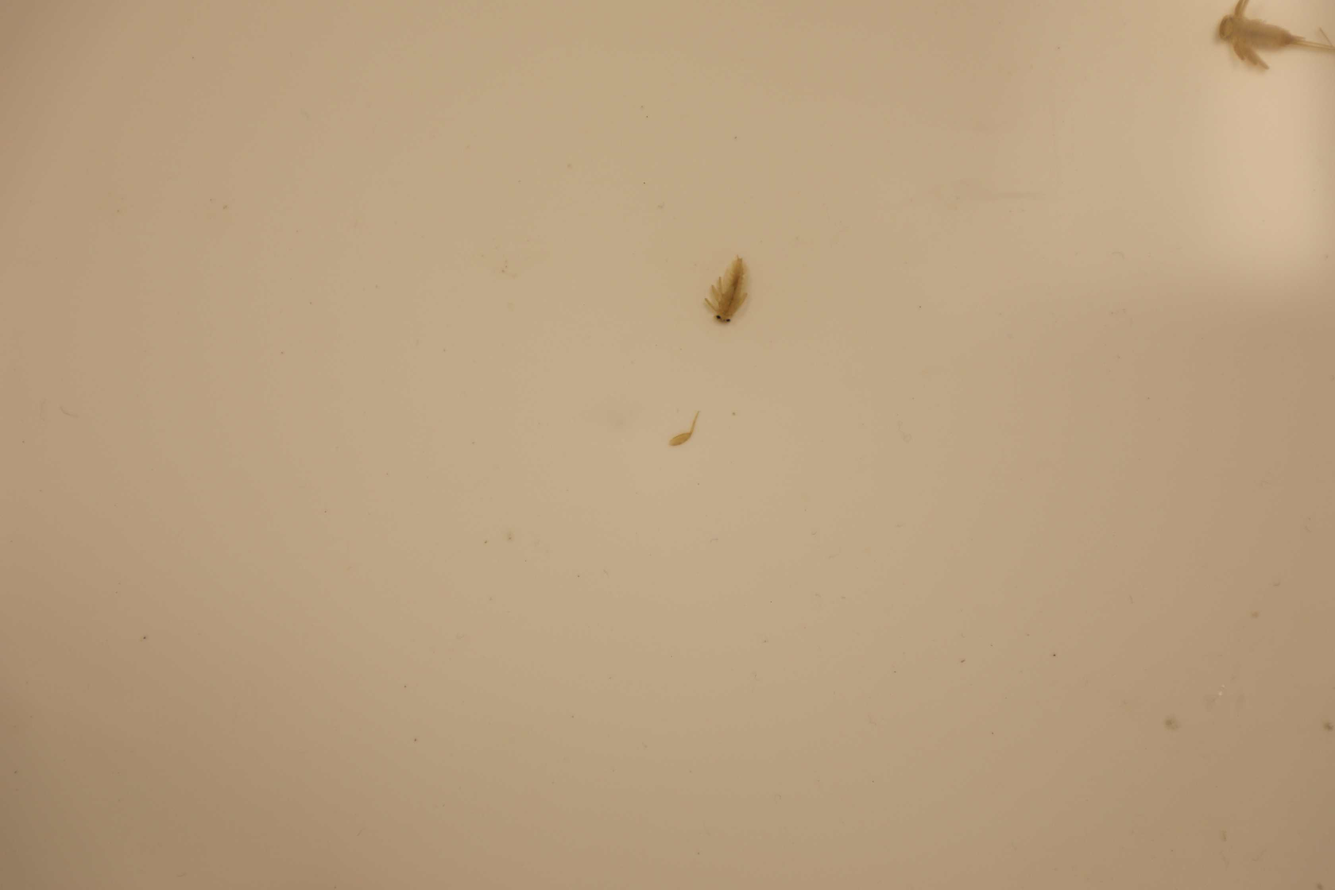Mayfly: (1203, 0, 1335, 80), (704, 252, 757, 334), (669, 403, 704, 453)
